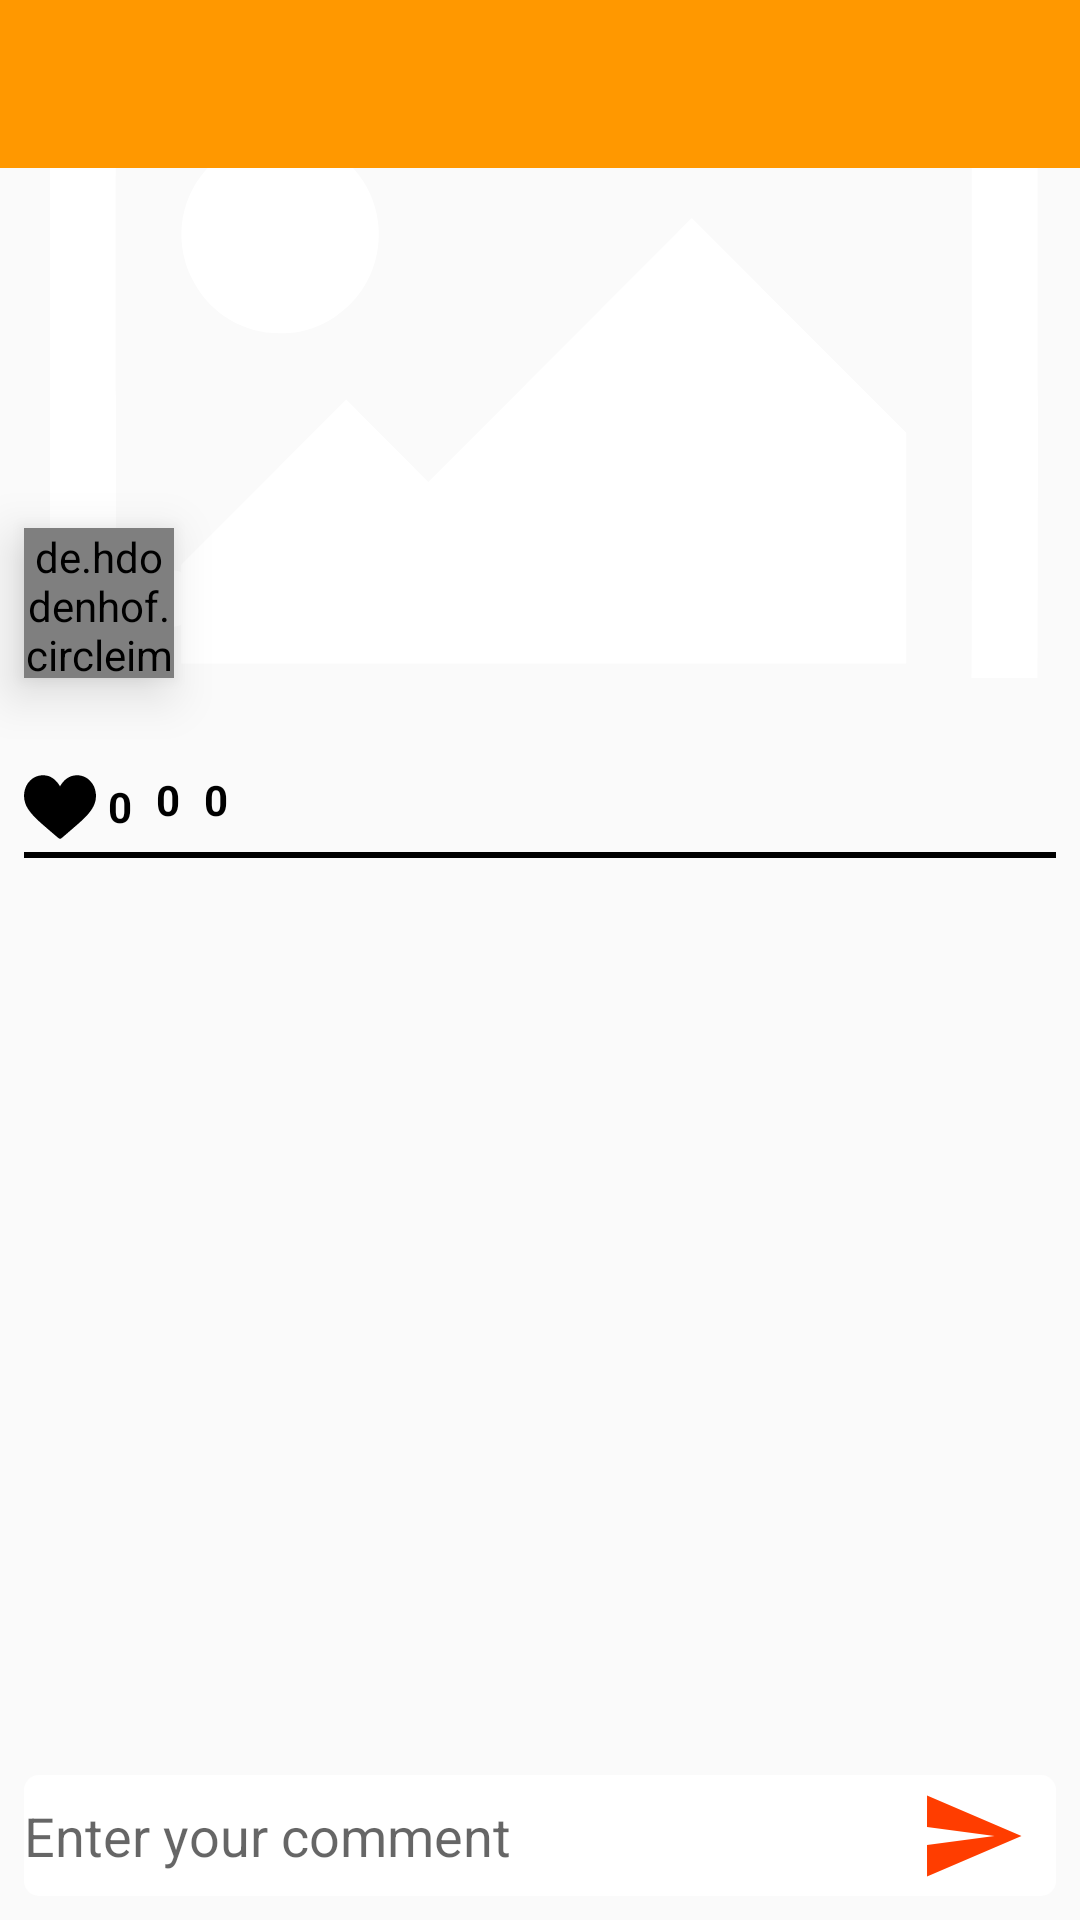

Named icons in this screenshot (1080x1920) and their centers, point (x, y):
Comment Post Button Image: point (974, 1836)
